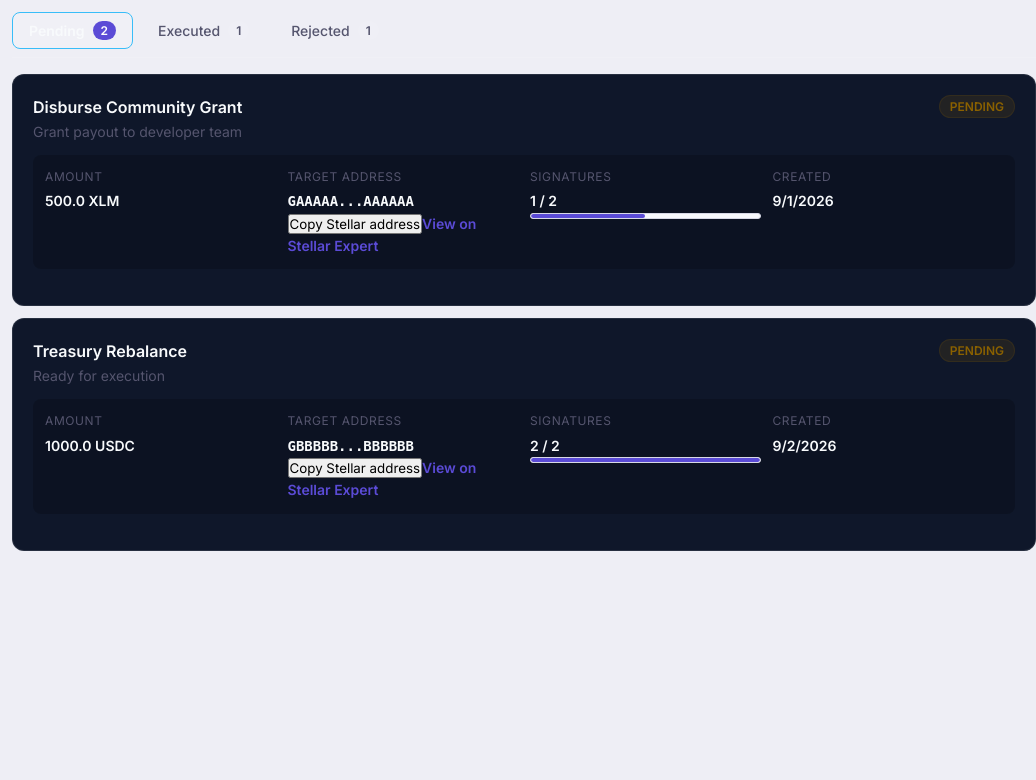
MultiSigProposalList › switches tabs when clicked
Click the tab with test id "tab-executed" at (204,30), box top-left (141, 12), bottom-right (266, 49)
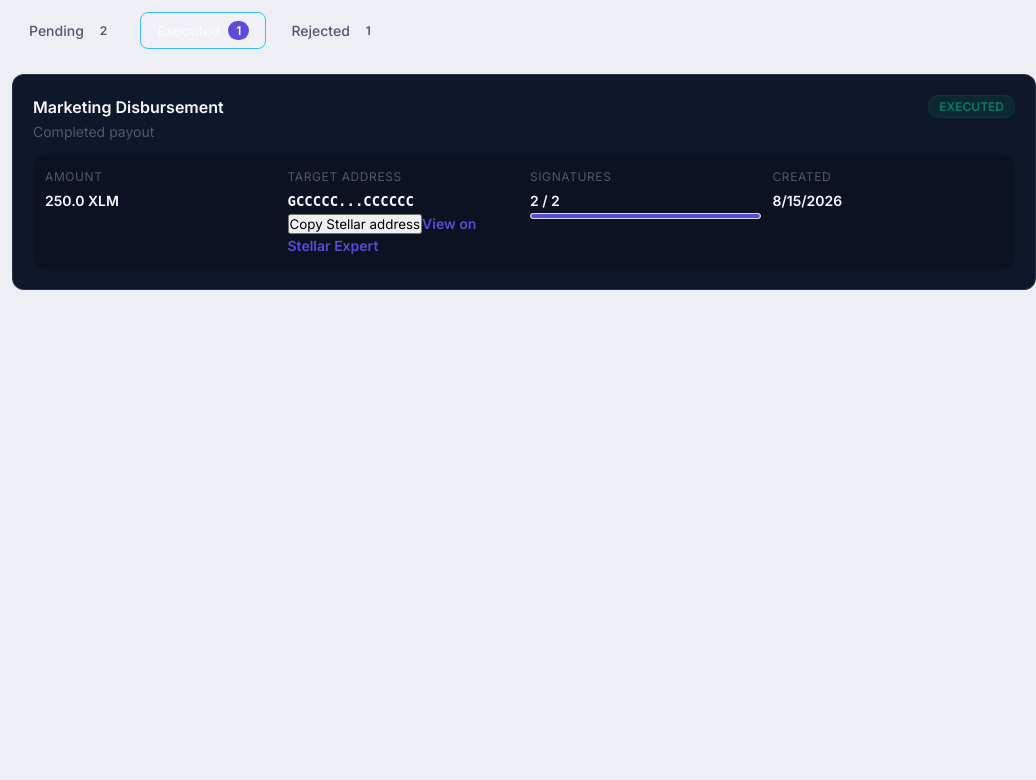
expect the heading "Marketing Disbursement" is shown: met, box top-left (33, 95), bottom-right (224, 121)
expect the heading "Disburse Community Grant" is gone: met
Click the tab with test id "tab-rejected" at (335,30), box top-left (274, 12), bottom-right (396, 49)
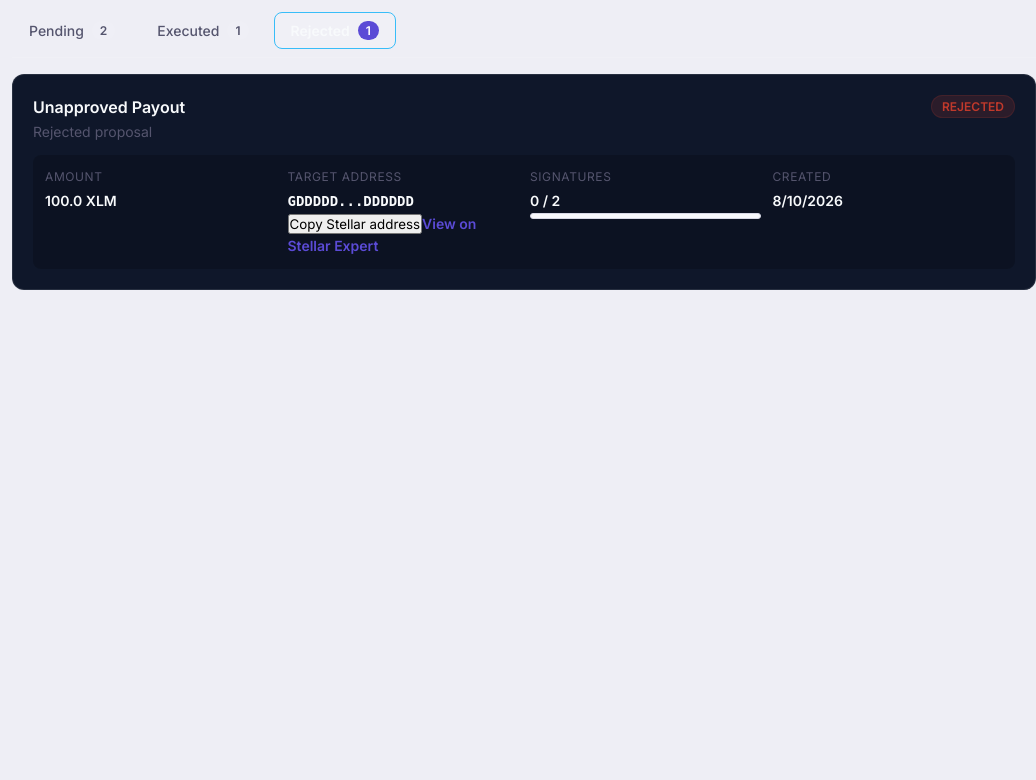
expect the heading "Unapproved Payout" is shown: met, box top-left (33, 95), bottom-right (185, 121)
